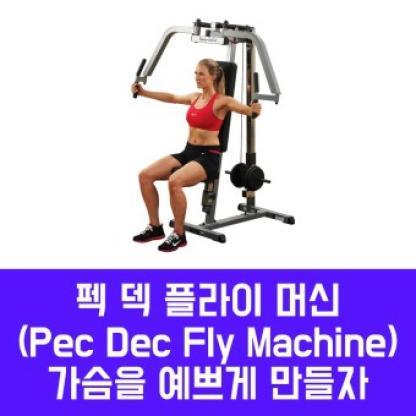chest fly machine: (105, 8, 307, 254)
